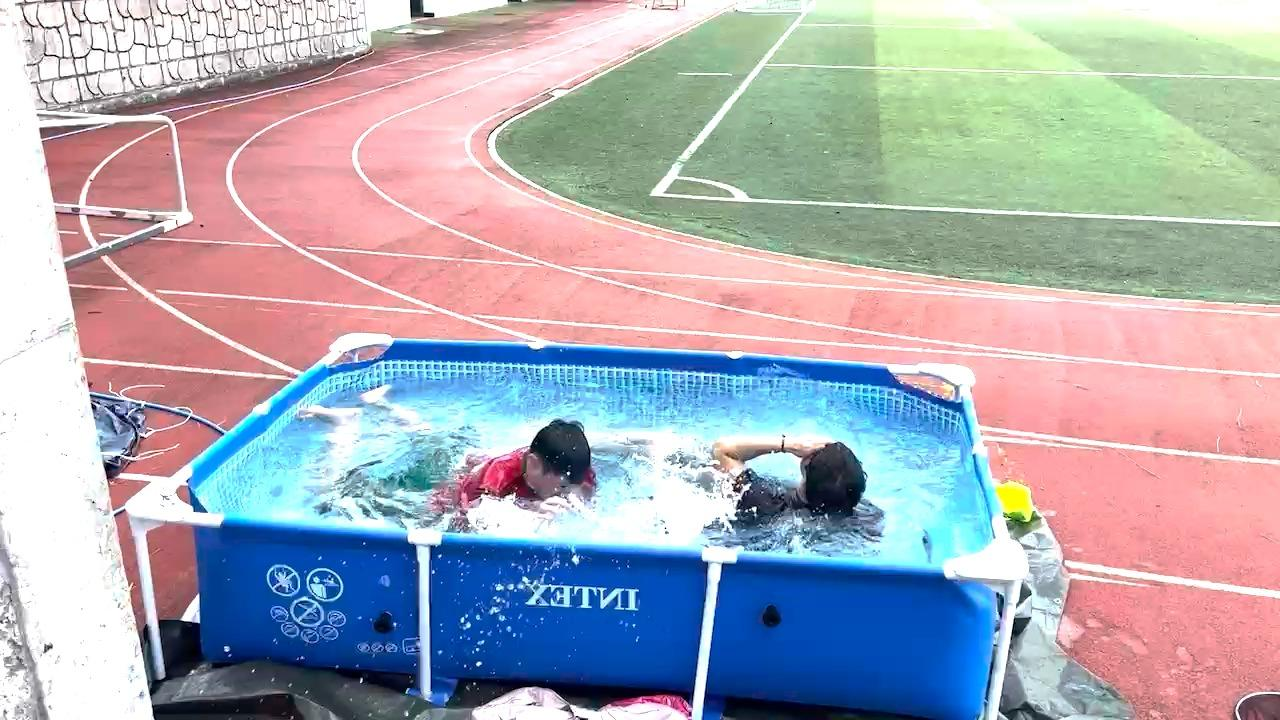Drowning: (274, 396, 622, 536), (655, 404, 877, 549)
